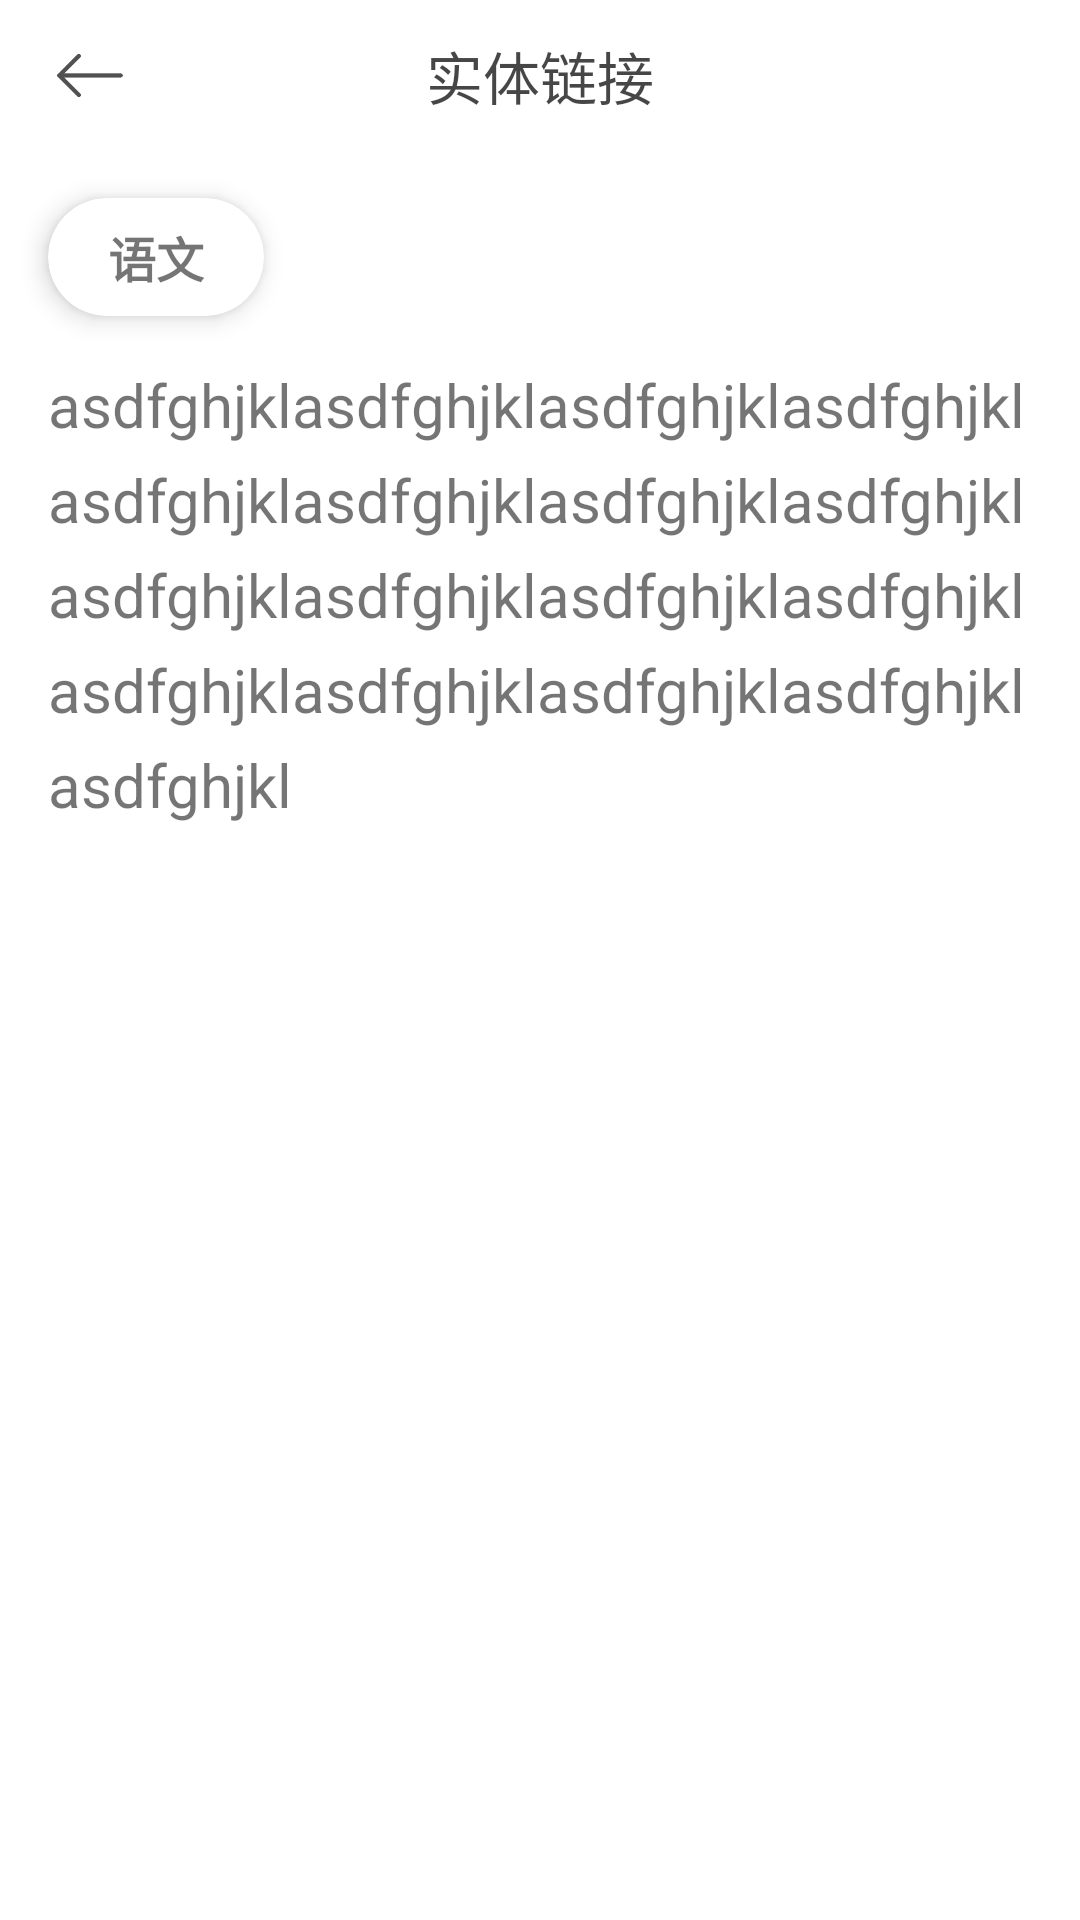

Screen size 1080w x 1920h. Icon name, then its box in pixels as (x1, y1, x2, y2):
backward arrow: (57, 54, 123, 97)
